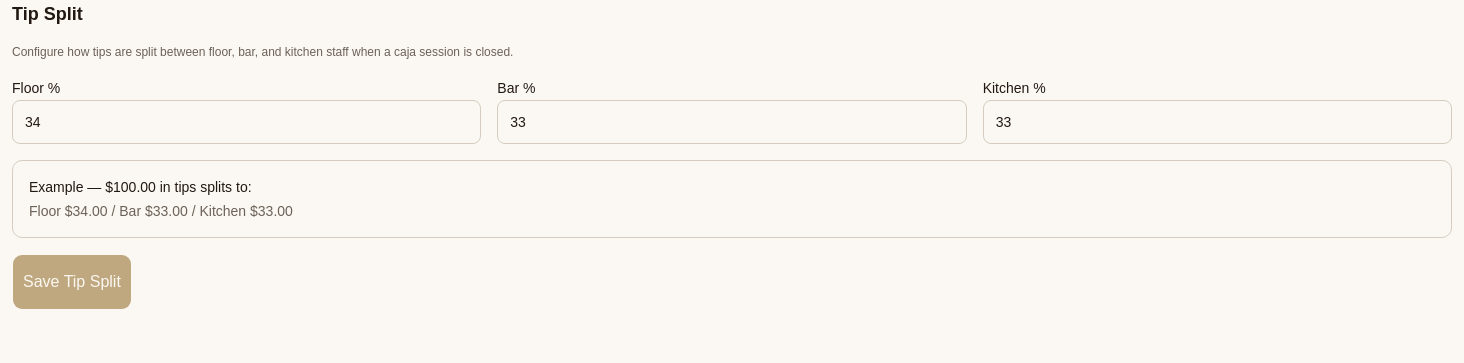
it: TipDistributionSettingsTab › shows a non-blocking warning when percentages sum to 90 while keeping Save enabled (D-01)
Replace the text in the number field labelled "Floor %" with "24" at (247, 122), box [12,100,481,144]
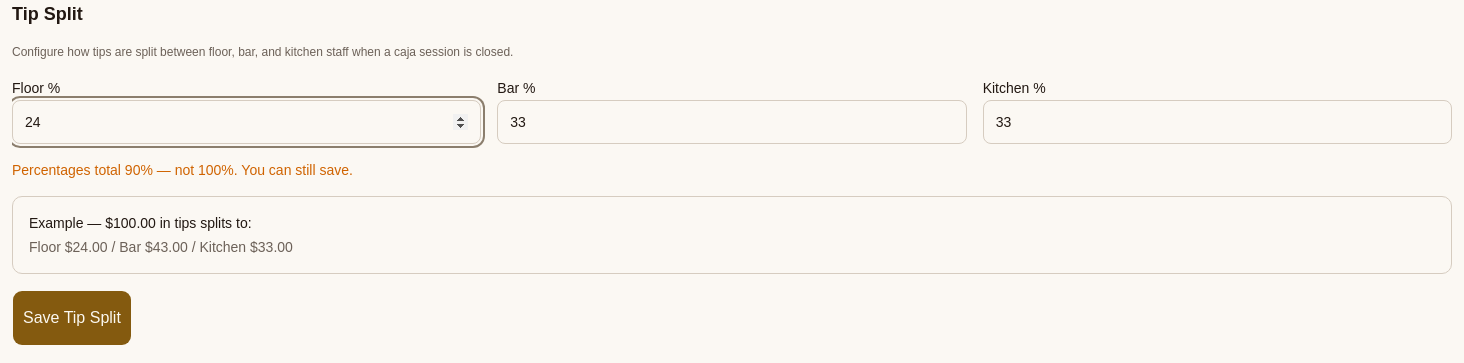
expect the button "Save Tip Split" is enabled: met, box [12,290,132,346]
expect the text "Percentages total 90% — not 100%. You can still save." is shown: met, box [12,162,353,178]
